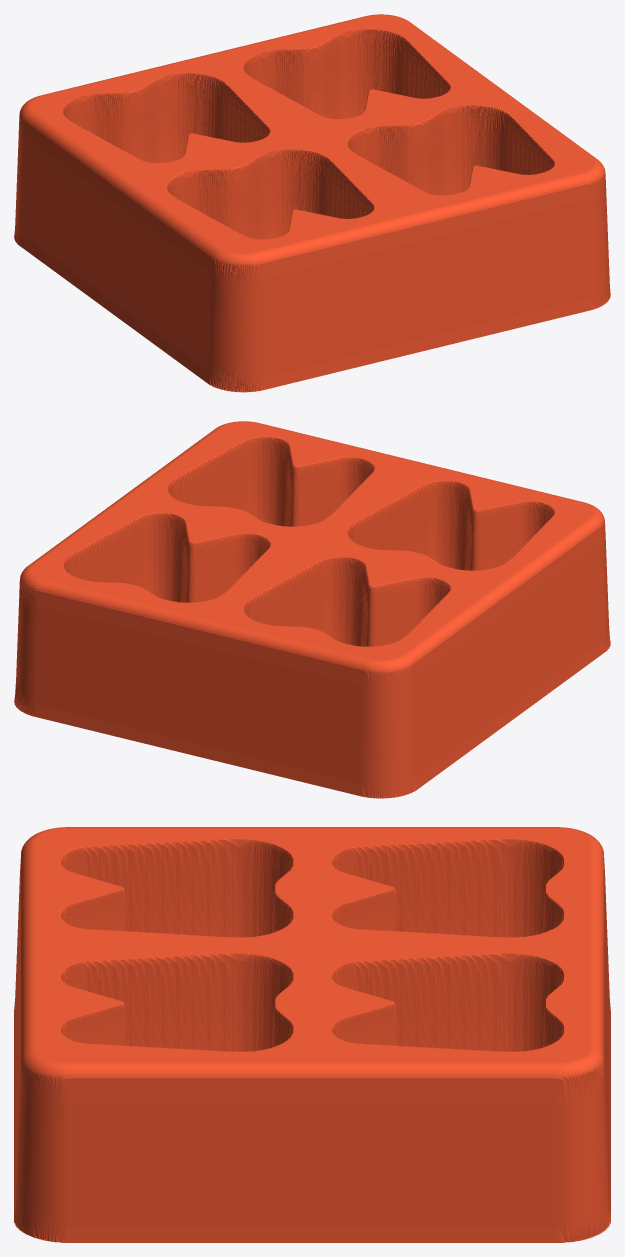
The model's file is mold.glb.
3 renders of one model, top to bottom at view 1: azimuth 30°, elevation 25°; view 2: azimuth 150°, elevation 25°; view 3: azimuth 270°, elevation 25°, orthographic. The views are drawn at different scales.
Visible parts, largest first — view 1: geometry_0; view 2: geometry_0; view 3: geometry_0.
Part boxes in pixels (x1,y1,x2,y2): geometry_0: (14,14,610,392); geometry_0: (14,421,610,798); geometry_0: (14,827,610,1242).
Bounding box in the file's own units: 0.0992 × 0.0314 × 0.0992.
